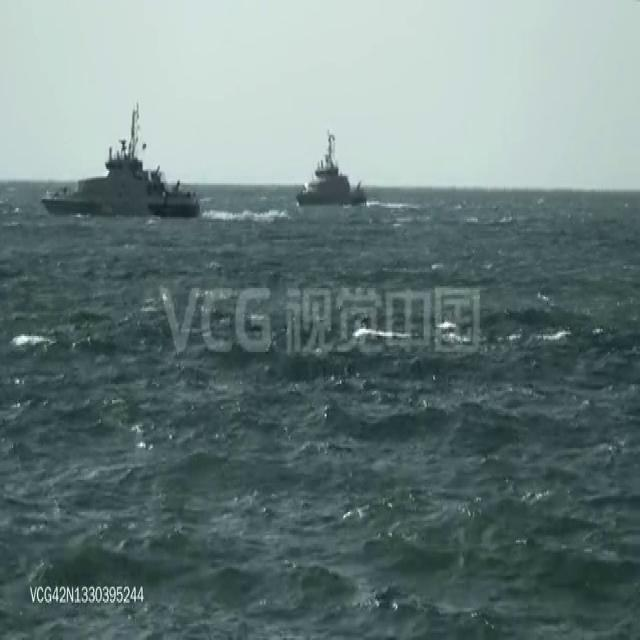houseboat: (44, 107, 200, 225), (294, 126, 363, 205)
